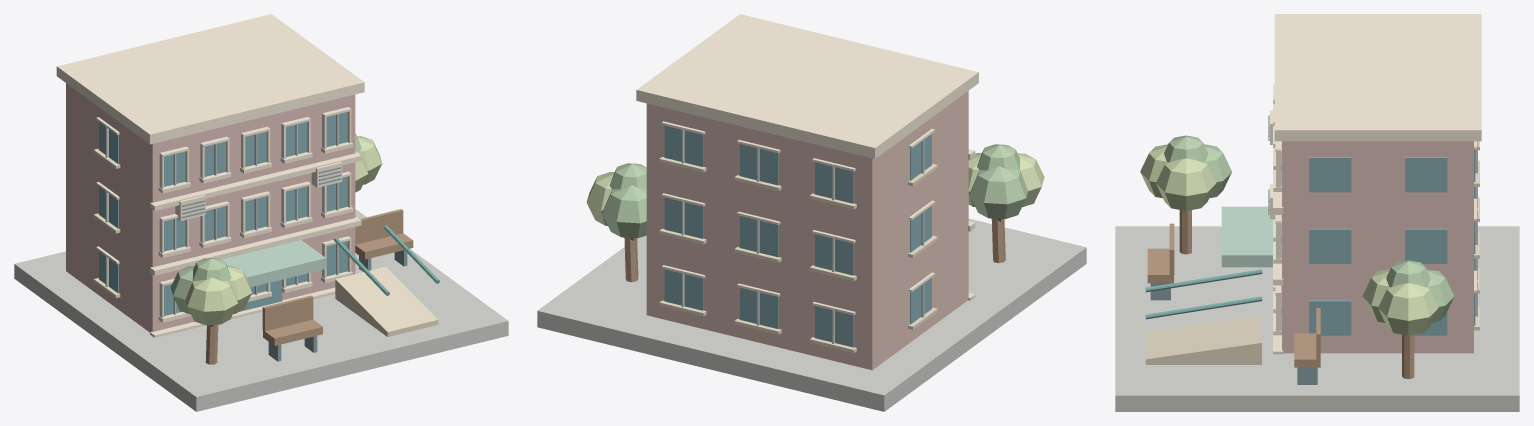
The model's file is dot-tpl-care.glb.
3 renders of one model, left to right at view 1: azimuth 30°, elevation 25°; view 2: azimuth 150°, elevation 25°; view 3: azimuth 270°, elevation 25°, orthographic. The views are drawn at different scales.
Parts seen in each view (by area): view 1: paving; view 2: paving; view 3: paving.
Boxes of the visible parts, x1,y1,x2,y2 form: paving: (14, 14, 508, 411); paving: (537, 14, 1086, 411); paving: (1115, 14, 1519, 411).
Bounding box in the file's own units: 4 × 2.65 × 4.
1 material, 1 textured.
